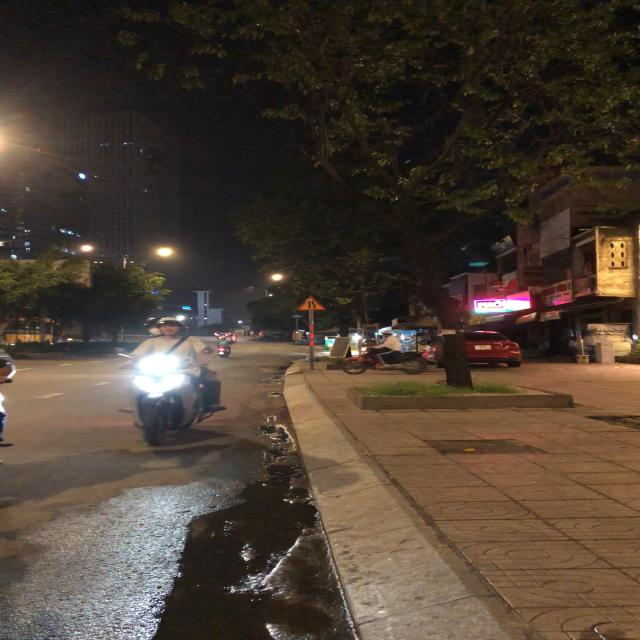Bien bao duong bi thu hep: (294, 295, 326, 312)
